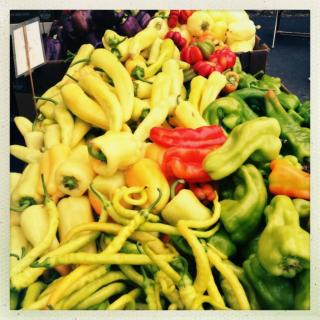Bell pepper: (149, 11, 312, 310), (163, 118, 230, 191)
